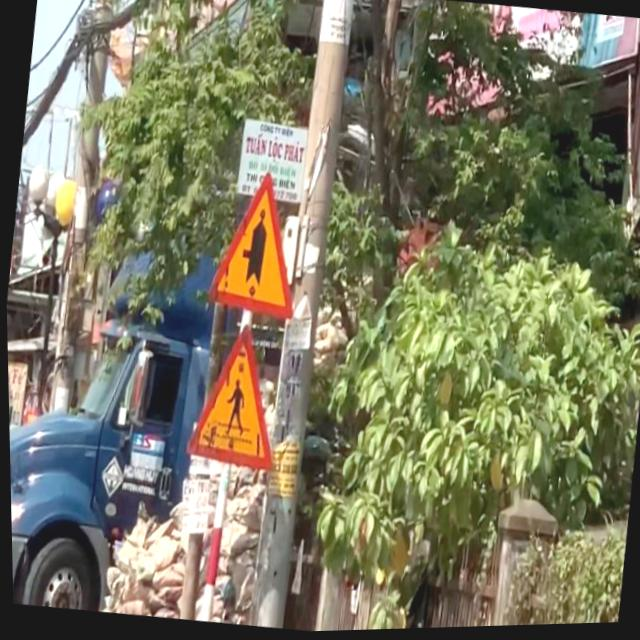Giao nhau voi duong khong uu tien ben trai: (192, 157, 314, 335)
Nguoi di bo cat ngang: (176, 309, 297, 482)
